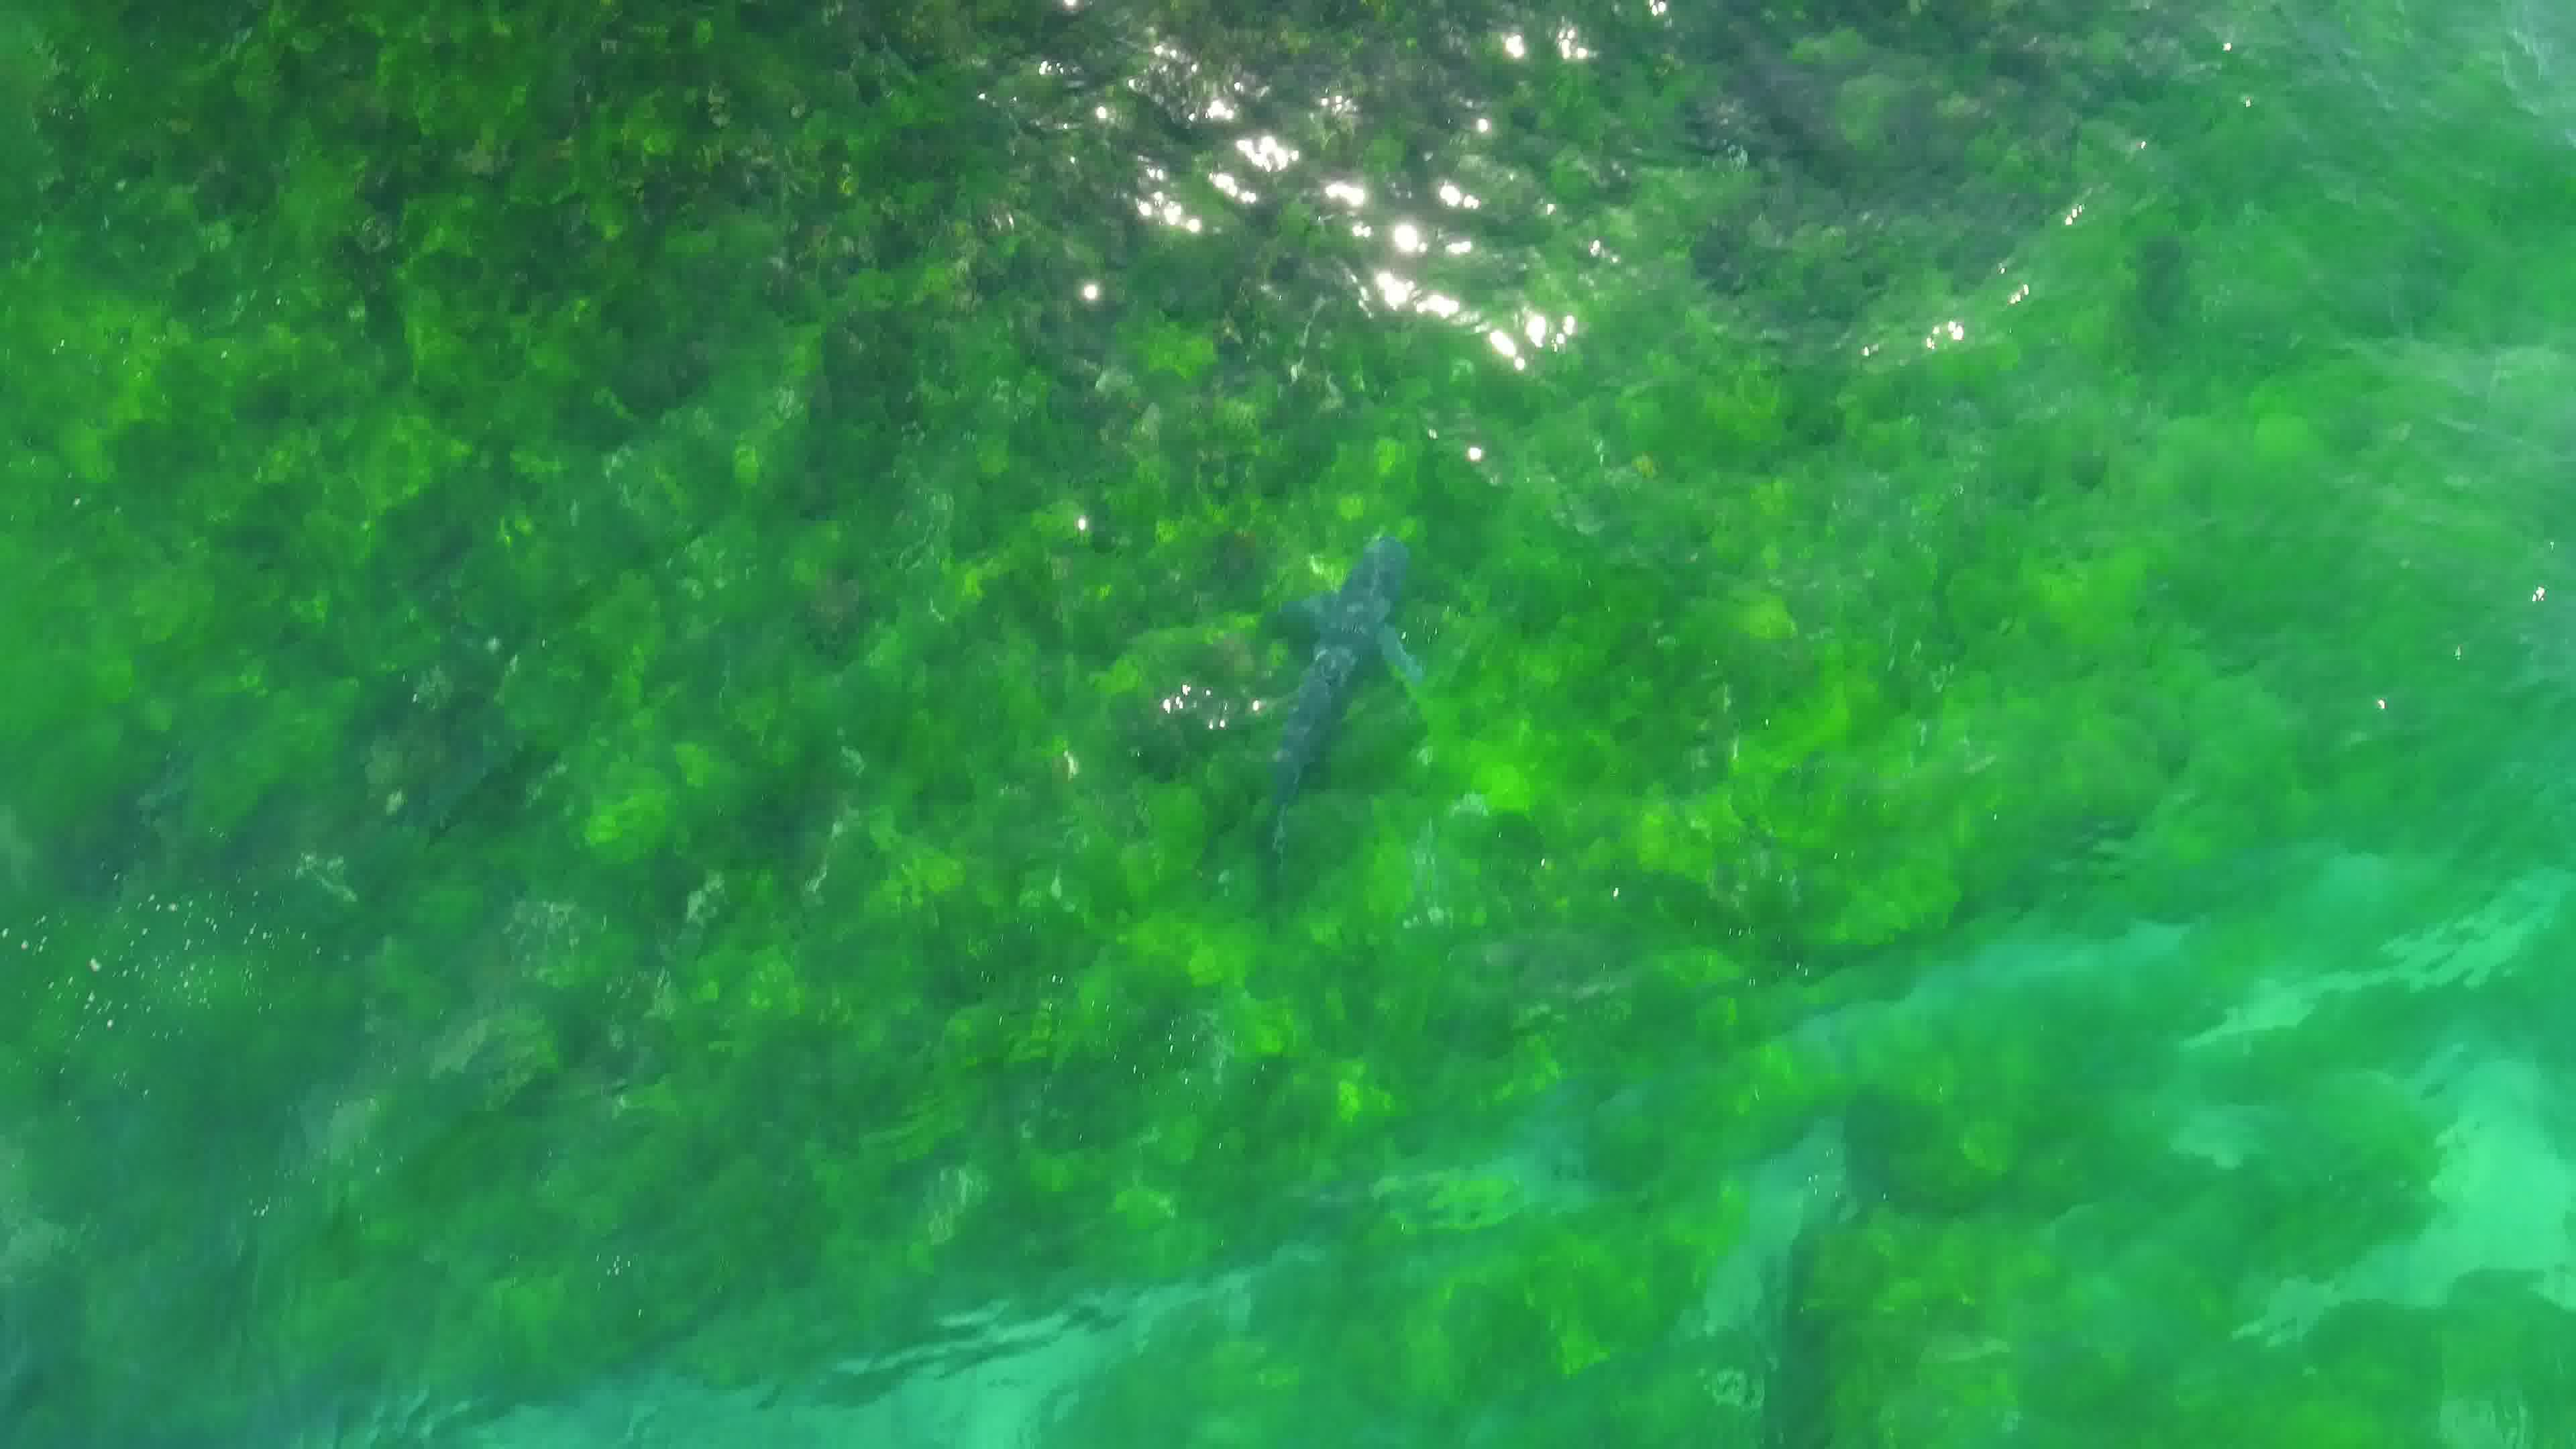shark: (1260, 533, 1438, 853)
